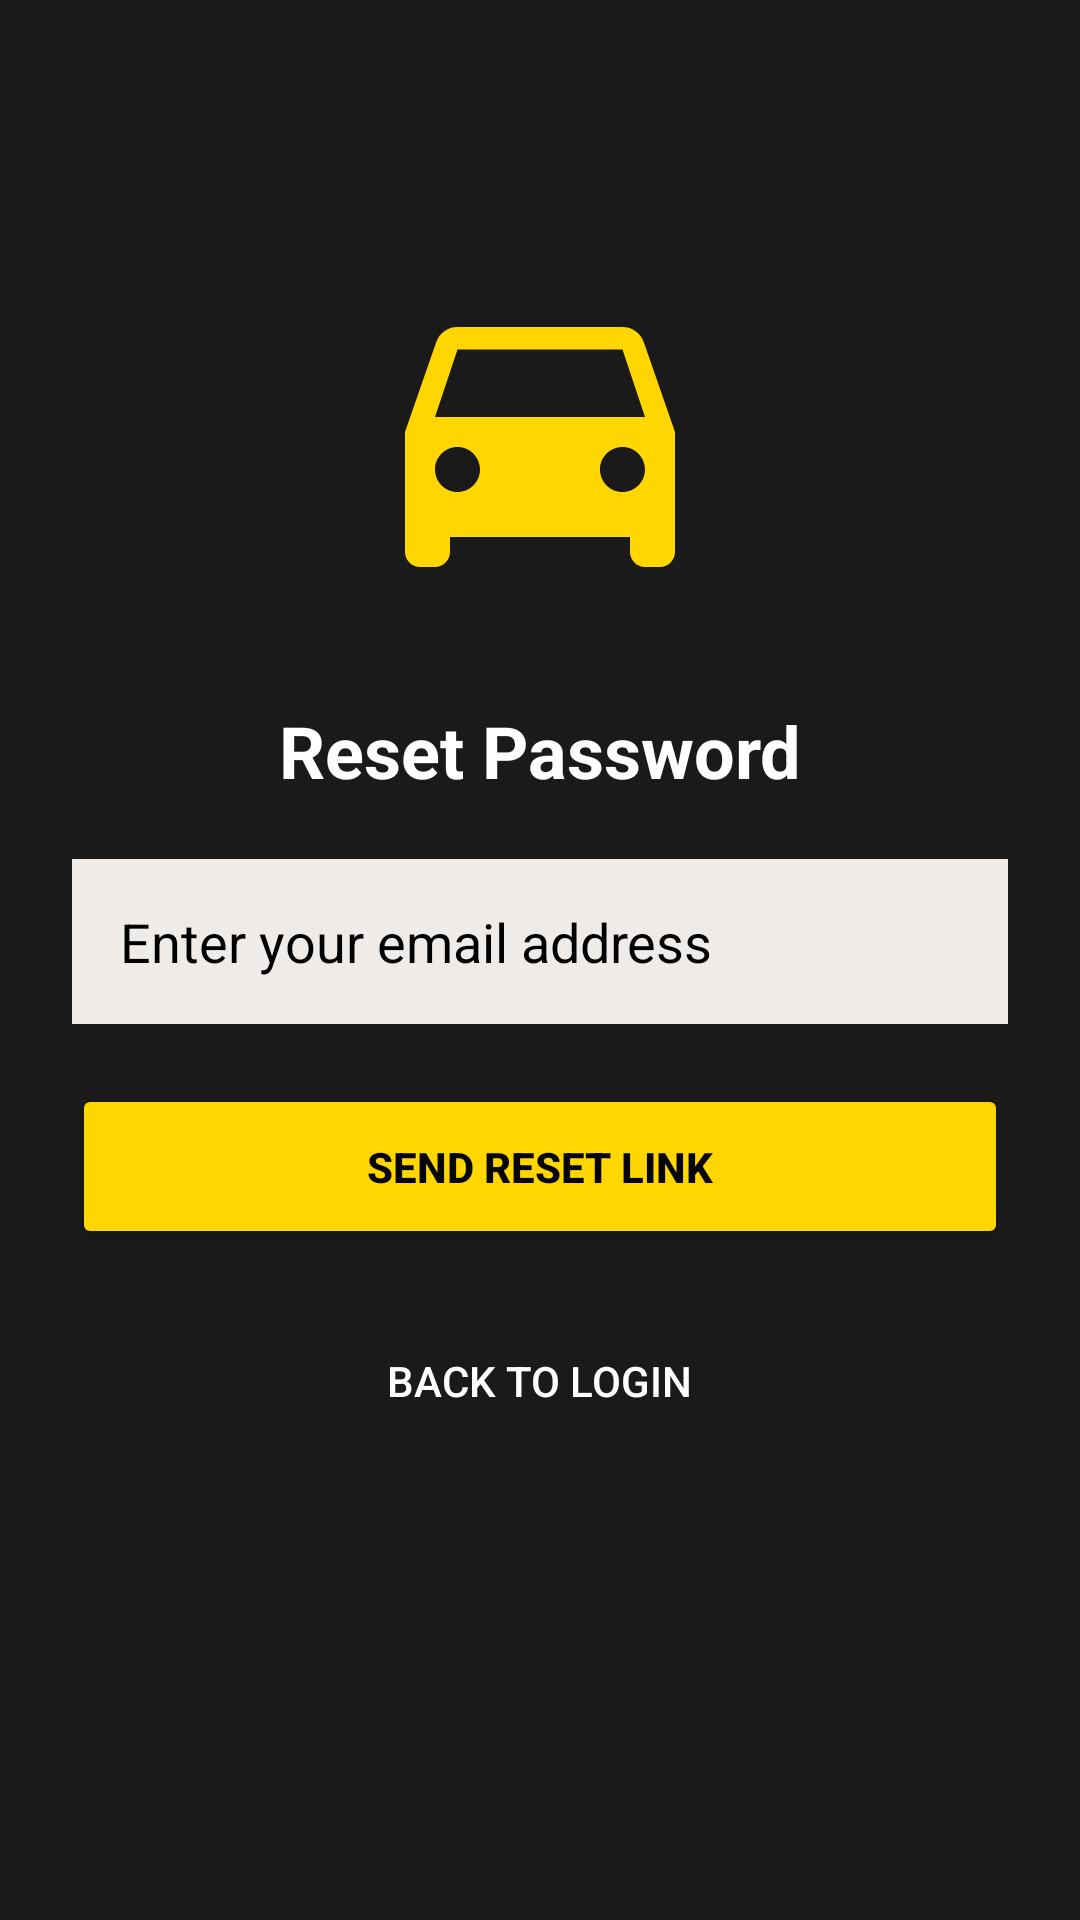

Where to tap for icons on this 1080x1920 app screen, as (x,y):
ride: (540,447)
